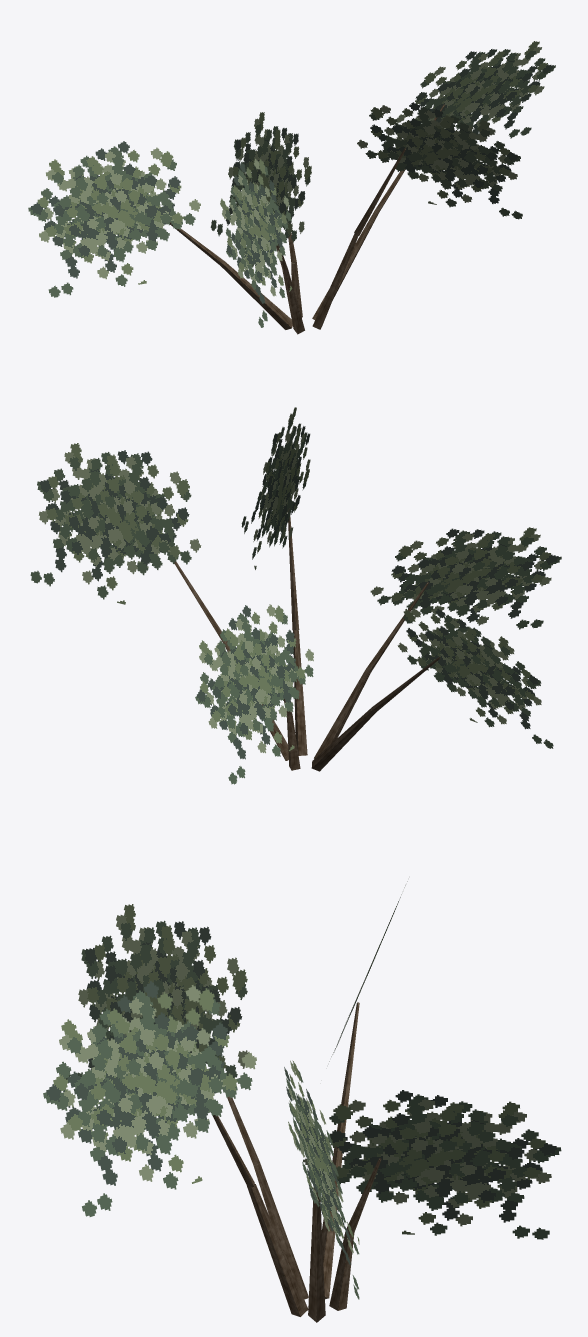
File: bramble_lod.gltf
The picture shows the model from 3 angles, top to bottom: view 1: azimuth 30°, elevation 25°; view 2: azimuth 150°, elevation 25°; view 3: azimuth 270°, elevation 25°; orthographic projection. The views are drawn at different scales.
Parts seen in each view (by area): view 1: bramble_lod; view 2: bramble_lod; view 3: bramble_lod.
Boxes of the visible parts, bbox=[...] form: bramble_lod: bbox=[28, 41, 555, 334]; bramble_lod: bbox=[30, 407, 561, 784]; bramble_lod: bbox=[43, 881, 561, 1322].
Bounding box in the file's own units: 2.42 × 1.22 × 1.59.
2 materials, 2 textured.
